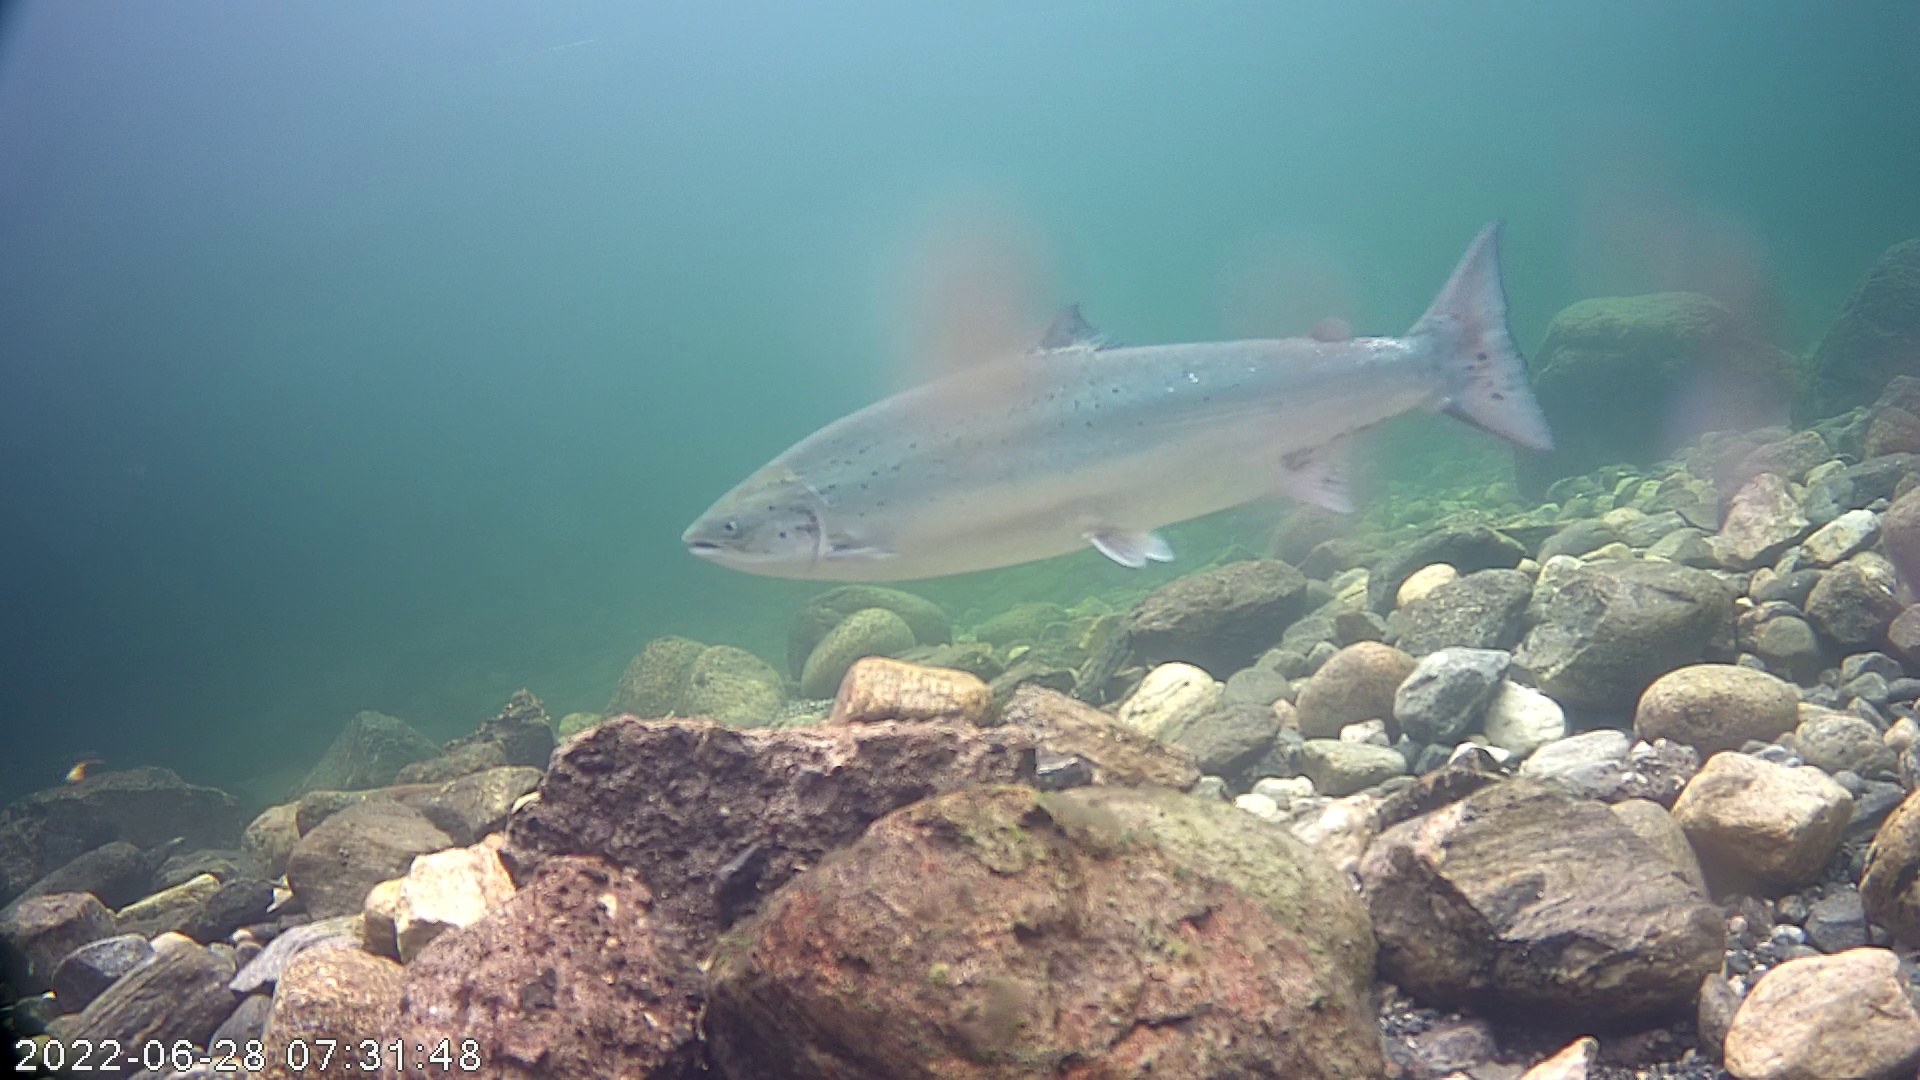salmon: (673, 198, 1571, 613)
